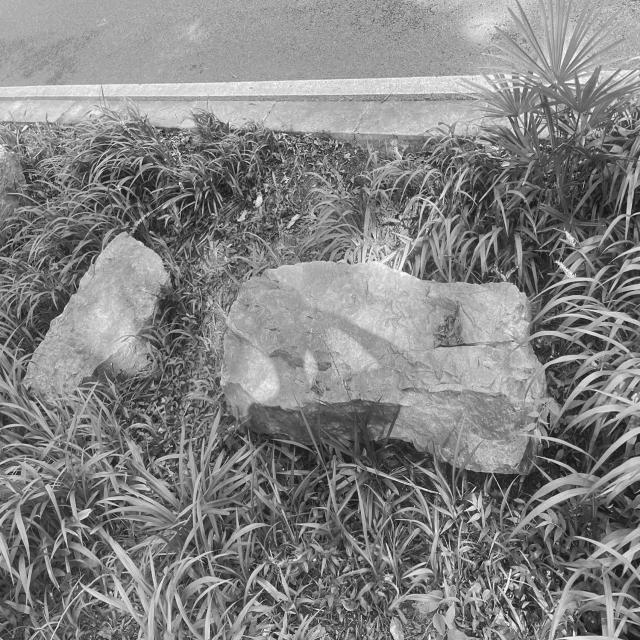Stone: (221, 261, 545, 473), (25, 233, 170, 395)
